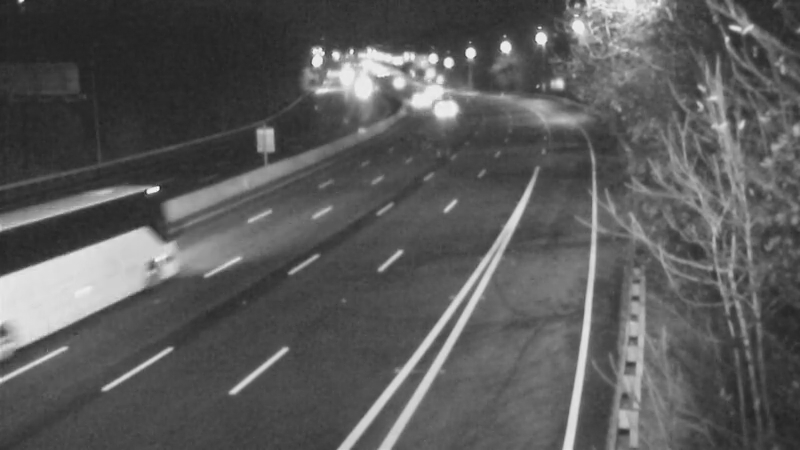vehicle: (39, 230, 119, 310), (372, 61, 422, 111), (409, 65, 459, 115), (394, 76, 444, 126), (417, 90, 467, 140)
